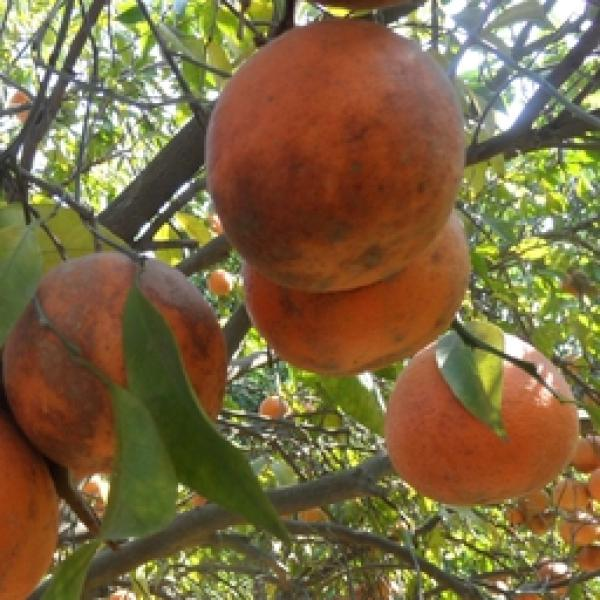Machas negras: (196, 15, 468, 290), (3, 247, 227, 481), (232, 191, 475, 392), (0, 407, 72, 595)
